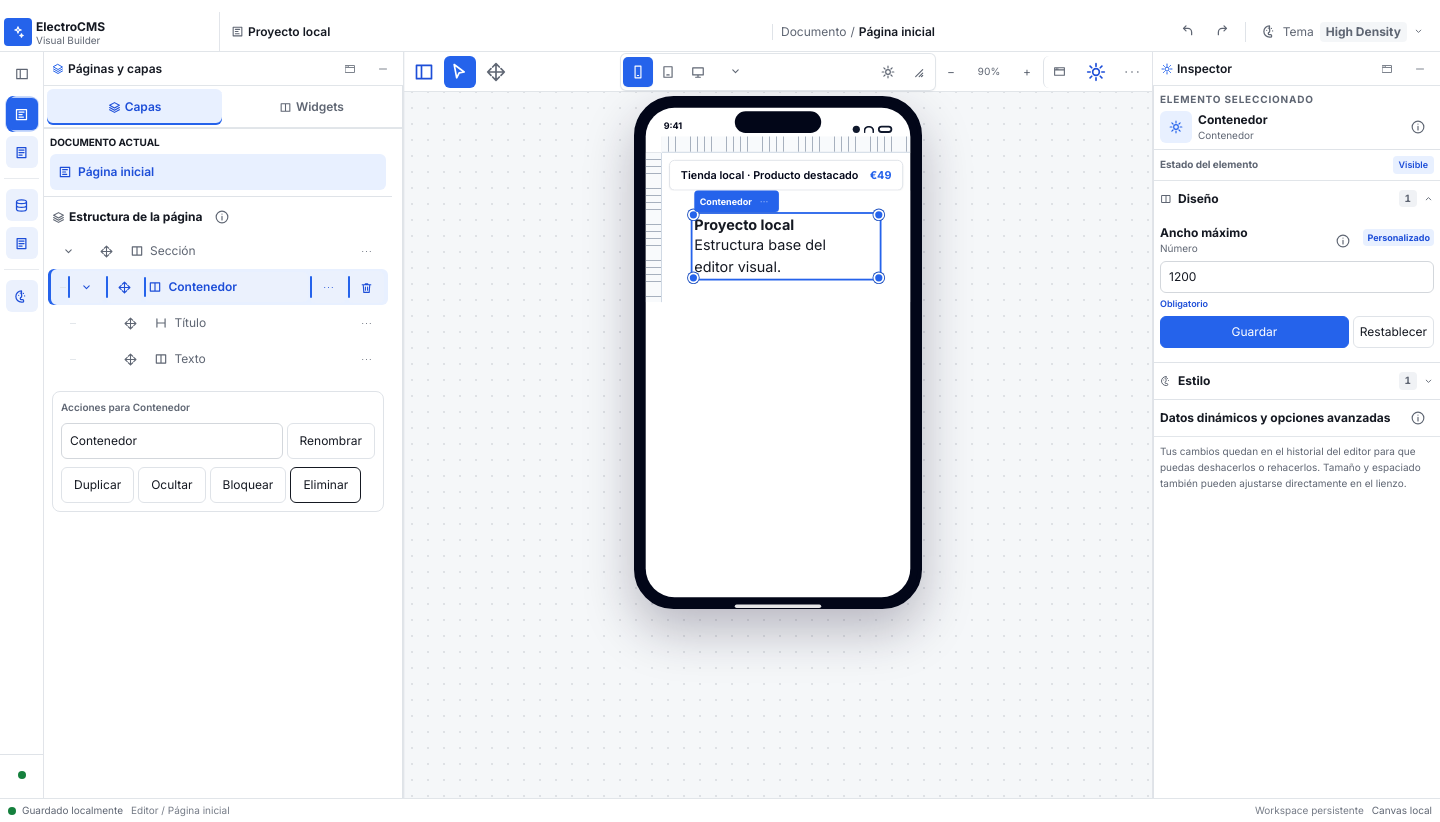
it: App › expone una biblioteca de widgets filtrable
This screenshot has width=1440, height=822.
Click the tab "Widgets" at (312, 107), box [224,89,399,125]
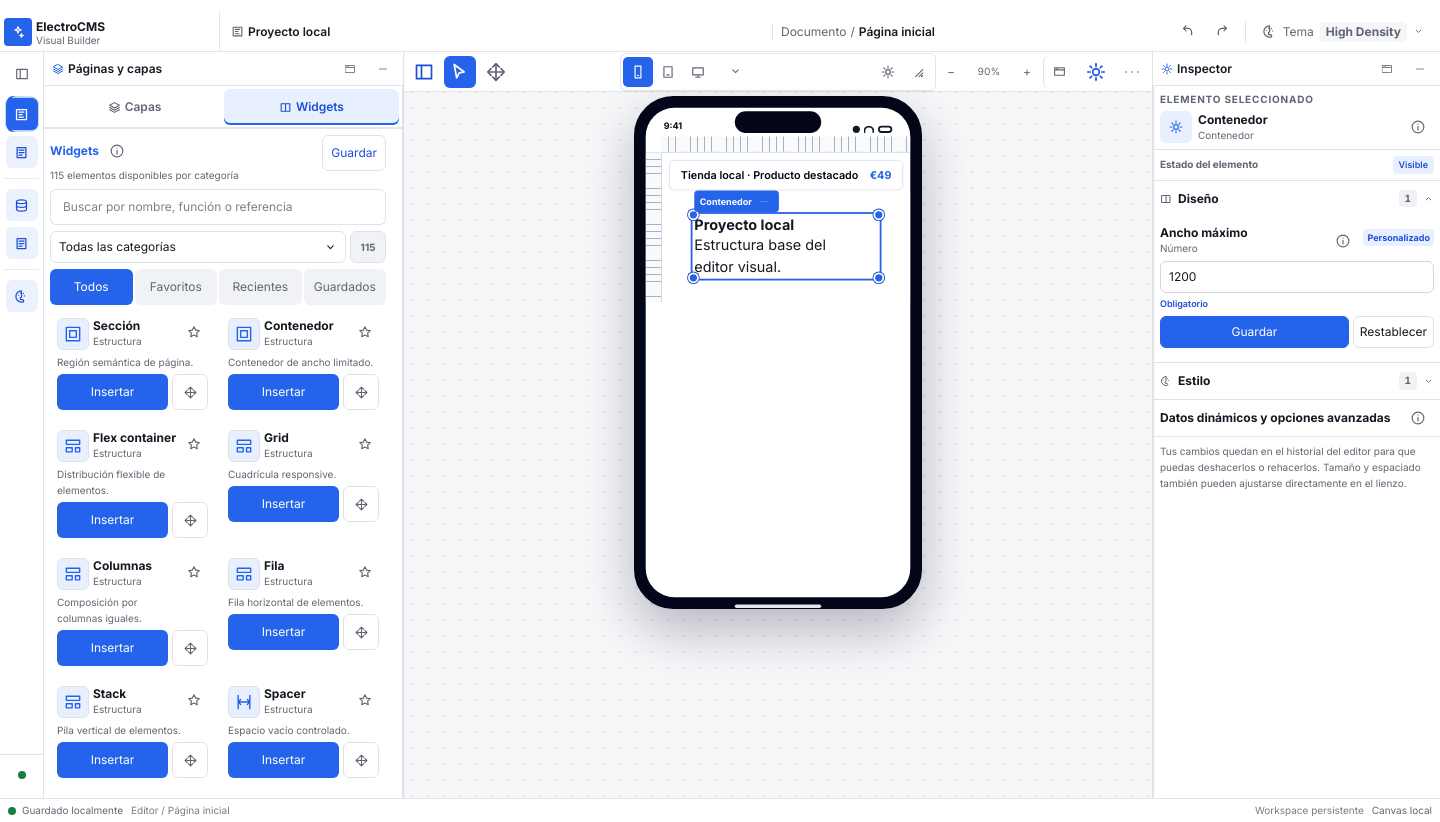
Expected: the text "Contenedor" next to "Sección" is shown, [264,318,334,333]
Expected: the search field named "buscar widgets" is shown
Type "Formulario" into the search field named "buscar widgets" at (218, 207), box [50,189,386,225]
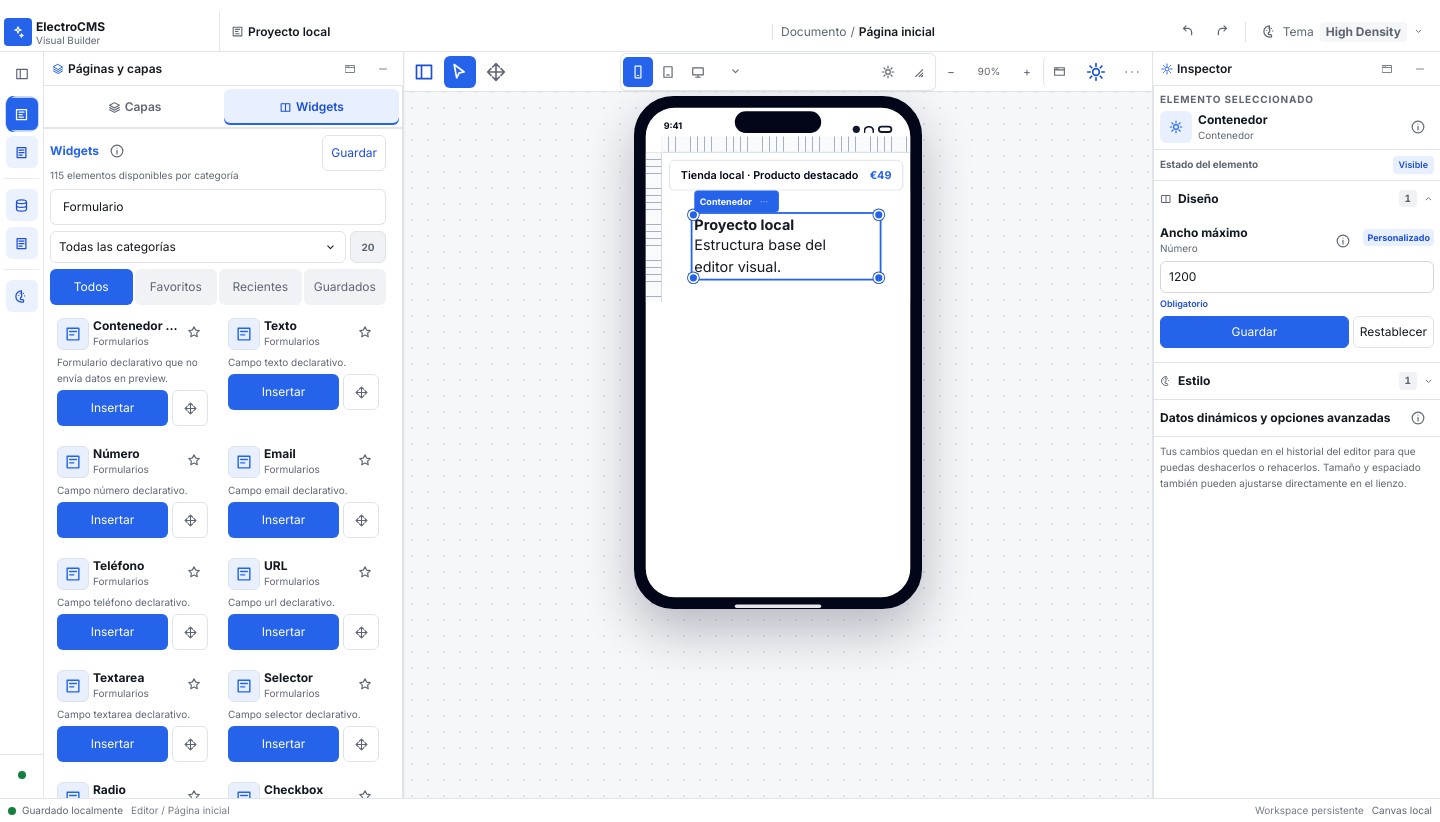
Expected: the text "Contenedor de formulario" is shown, [93,318,180,334]
